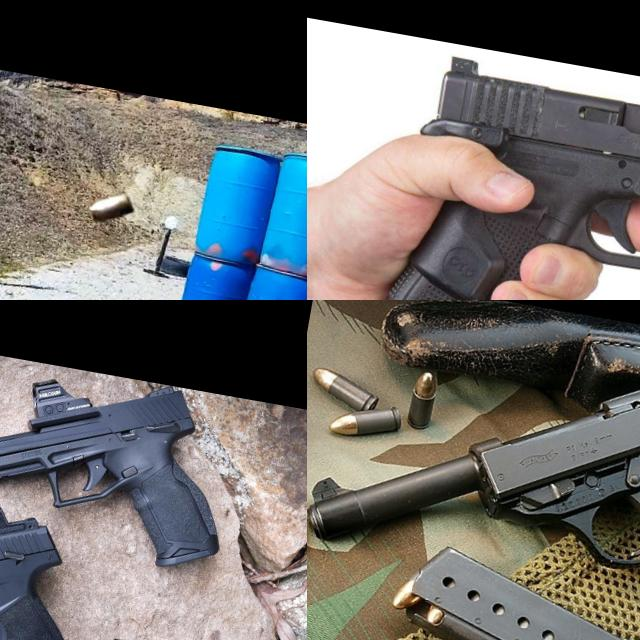handgun: (307, 300, 640, 640), (364, 44, 640, 300), (0, 348, 249, 580), (0, 469, 158, 640), (0, 207, 48, 300)
